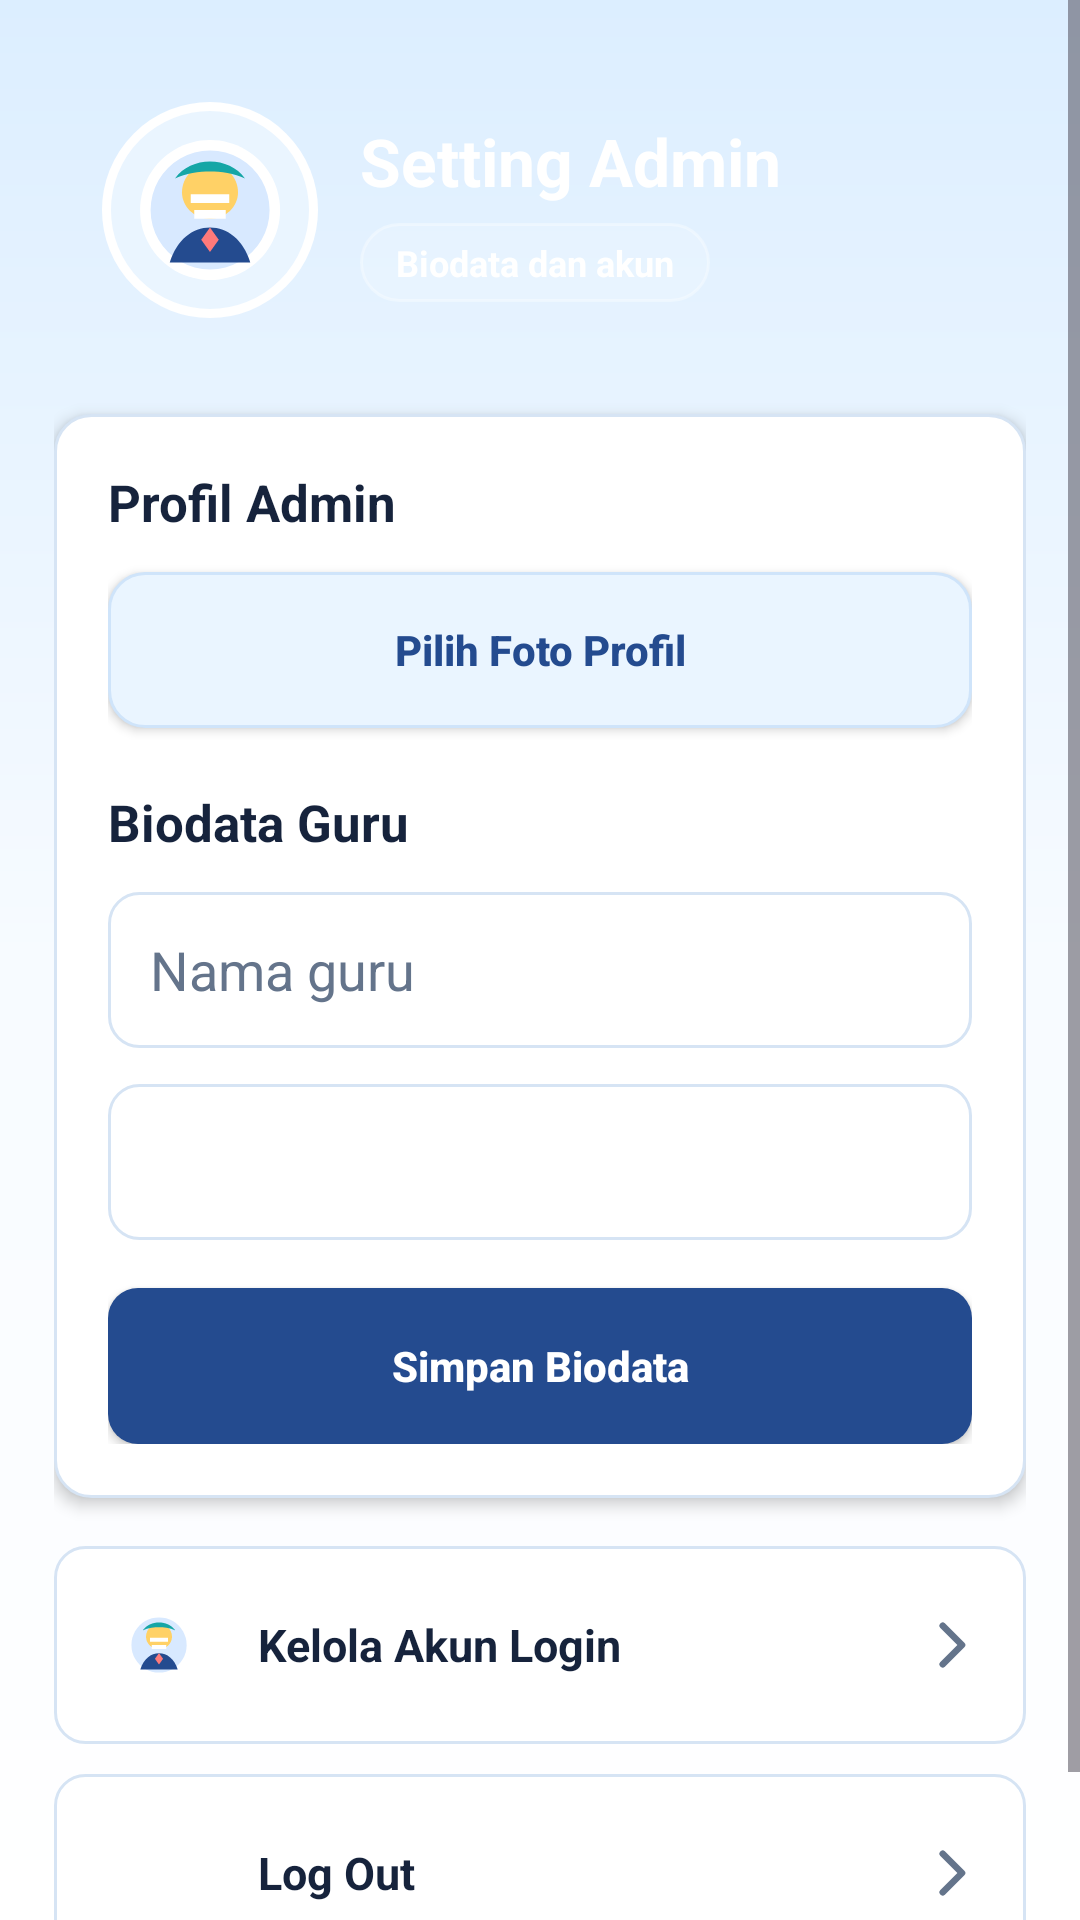

Screen size 1080*1920. Icon name, then its box in pixels as (x1, y1, x2, y2):
Buka kelola akun: (939, 1622, 966, 1668)
